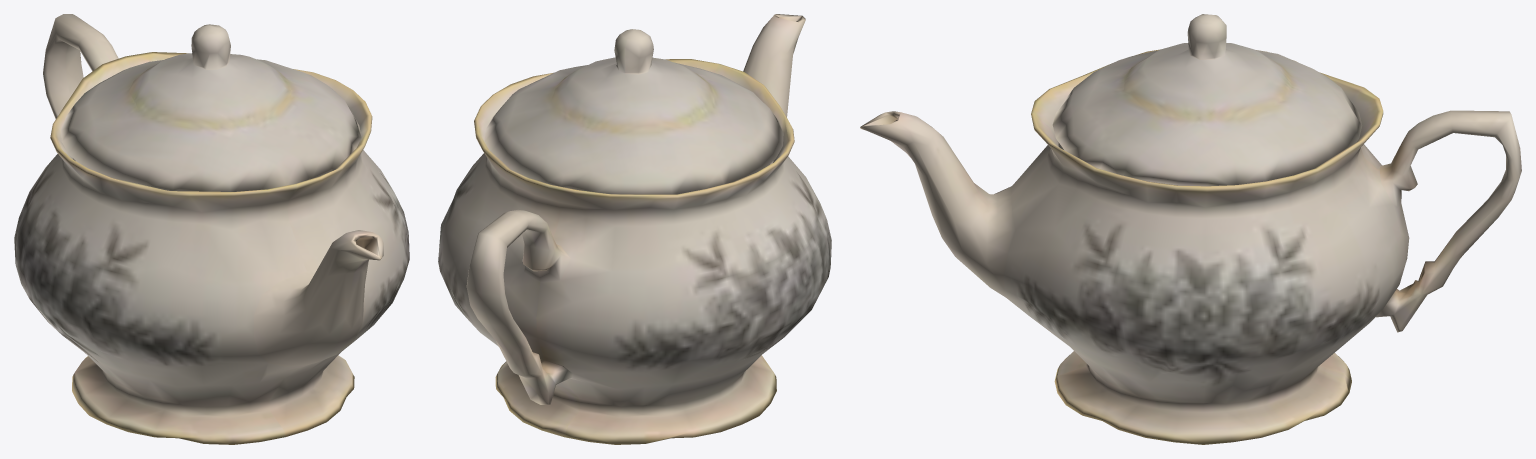
Rendered from teapot.glb.
The picture shows the model from 3 angles, left to right: view 1: azimuth 30°, elevation 25°; view 2: azimuth 150°, elevation 25°; view 3: azimuth 270°, elevation 25°; orthographic projection. The views are drawn at different scales.
Visible parts, largest first — view 1: tea_set_01_teapot_01; view 2: tea_set_01_teapot_01; view 3: tea_set_01_teapot_01.
Part boxes in pixels (x1=…): tea_set_01_teapot_01: x1=14, y1=14, x2=409, y2=444; tea_set_01_teapot_01: x1=438, y1=14, x2=831, y2=444; tea_set_01_teapot_01: x1=860, y1=14, x2=1521, y2=444.
Bounding box in the file's own units: 0.1648 × 0.164 × 0.2678.
Materials: 1 (1 with a texture image).
